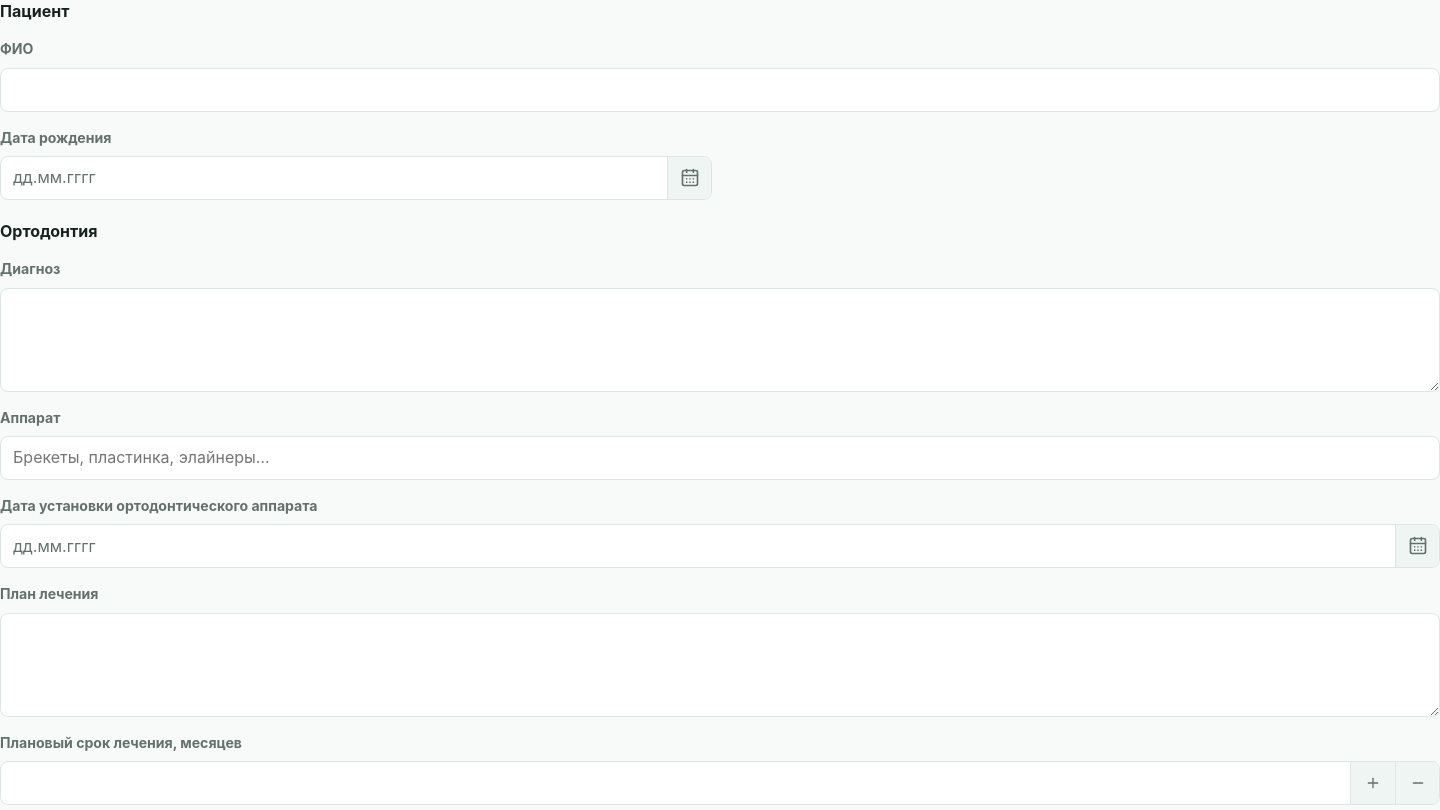
Test case: PatientForm › rejects invalid planned duration 0
In the field labelled "ФИО": [720, 90] box [0,68,1439,112], type "Тестовый пациент"
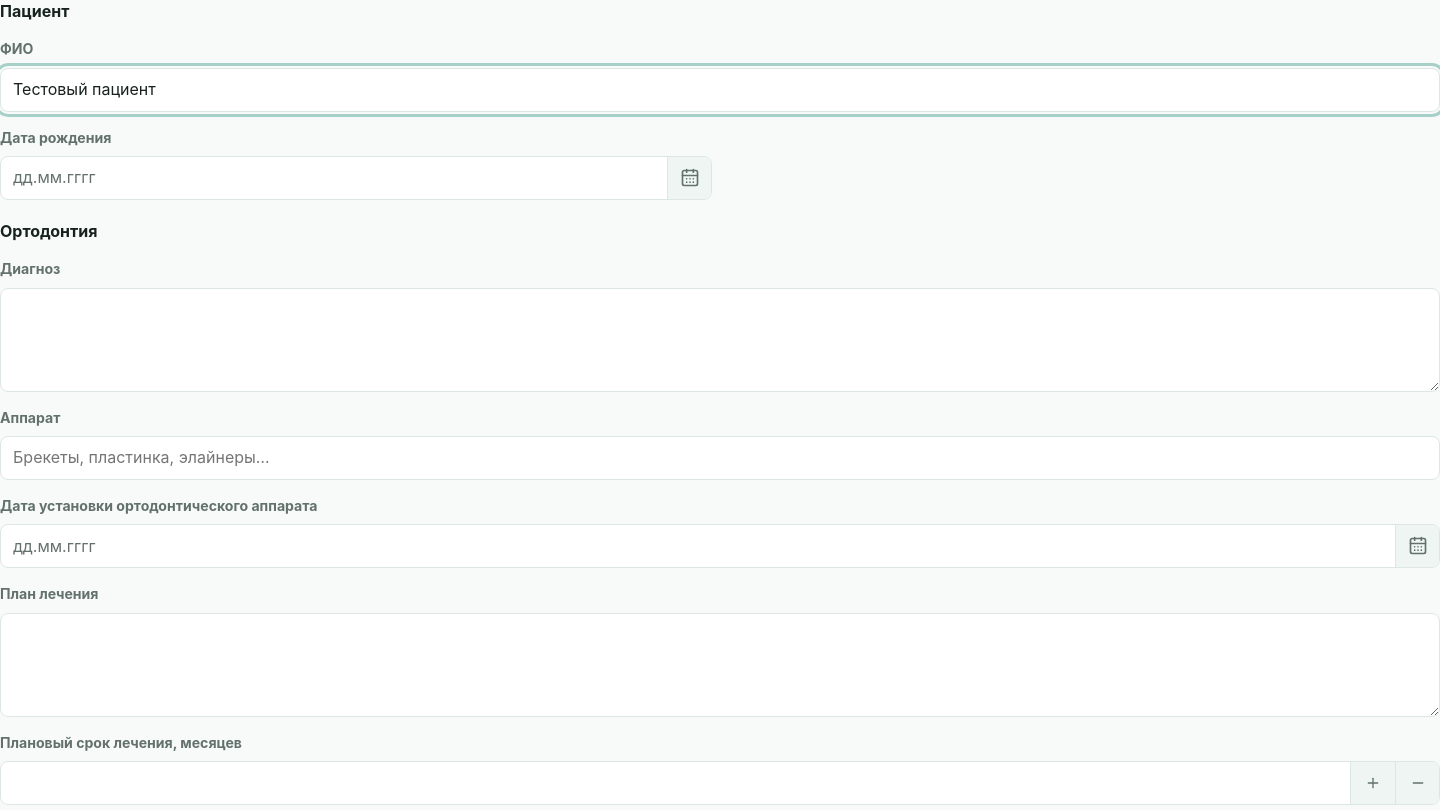
In the field labelled "Плановый срок лечения, месяцев": [676, 783] box [1,762,1350,804], type "0"
(page scrolled)
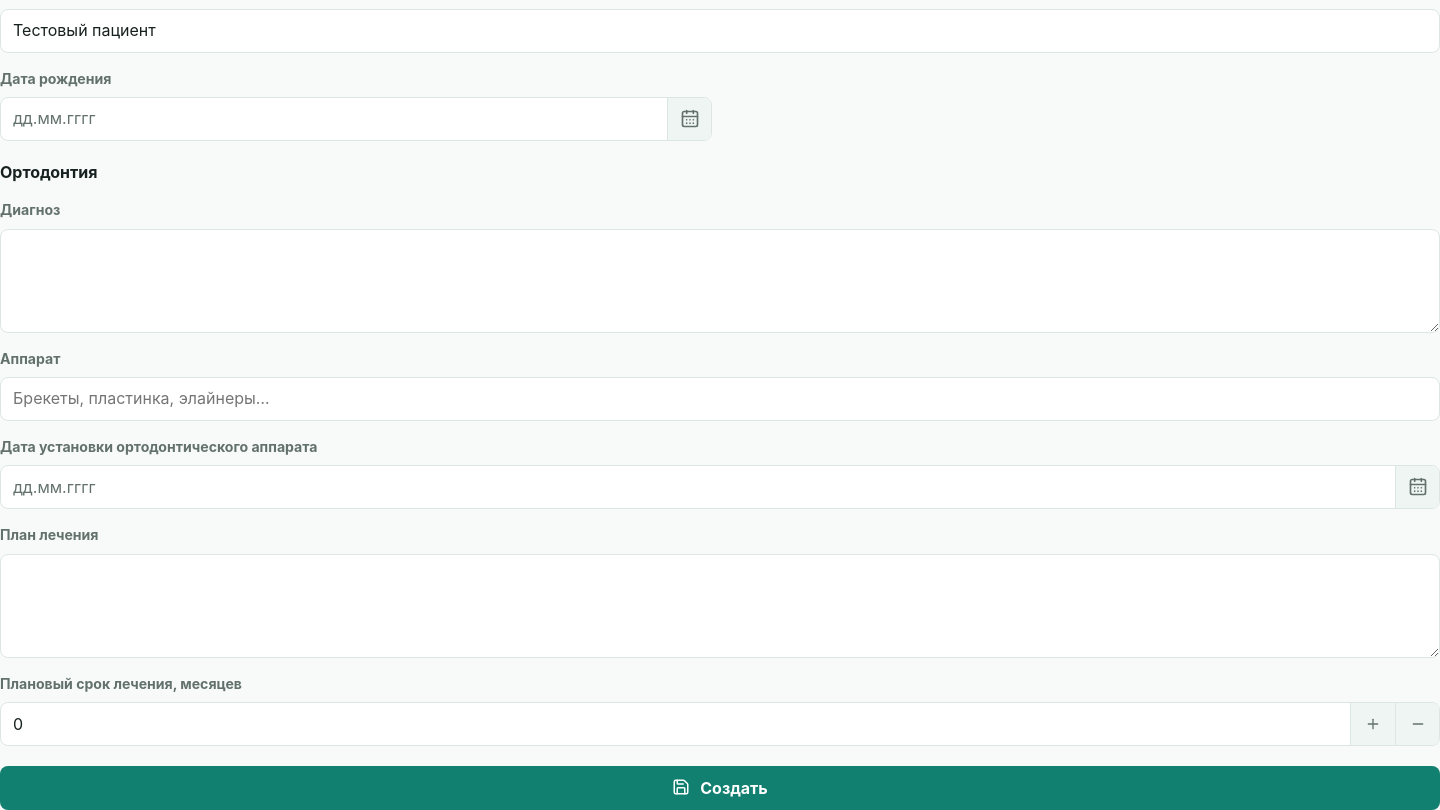
Click the button "Создать": [720, 788] box [0,766,1439,809]
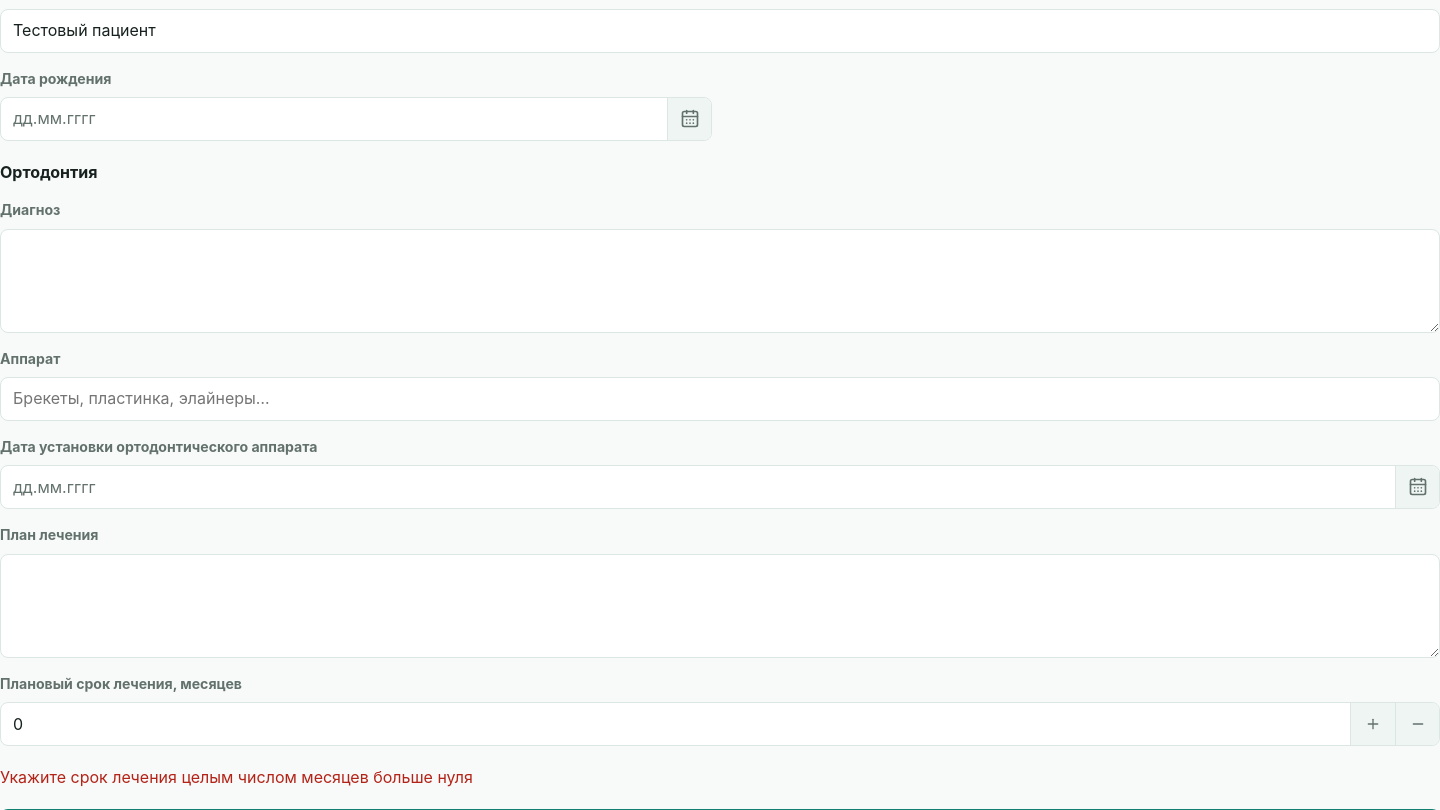
Expected: the message shows "целым числом месяцев больше нуля", [0,767,473,787]
